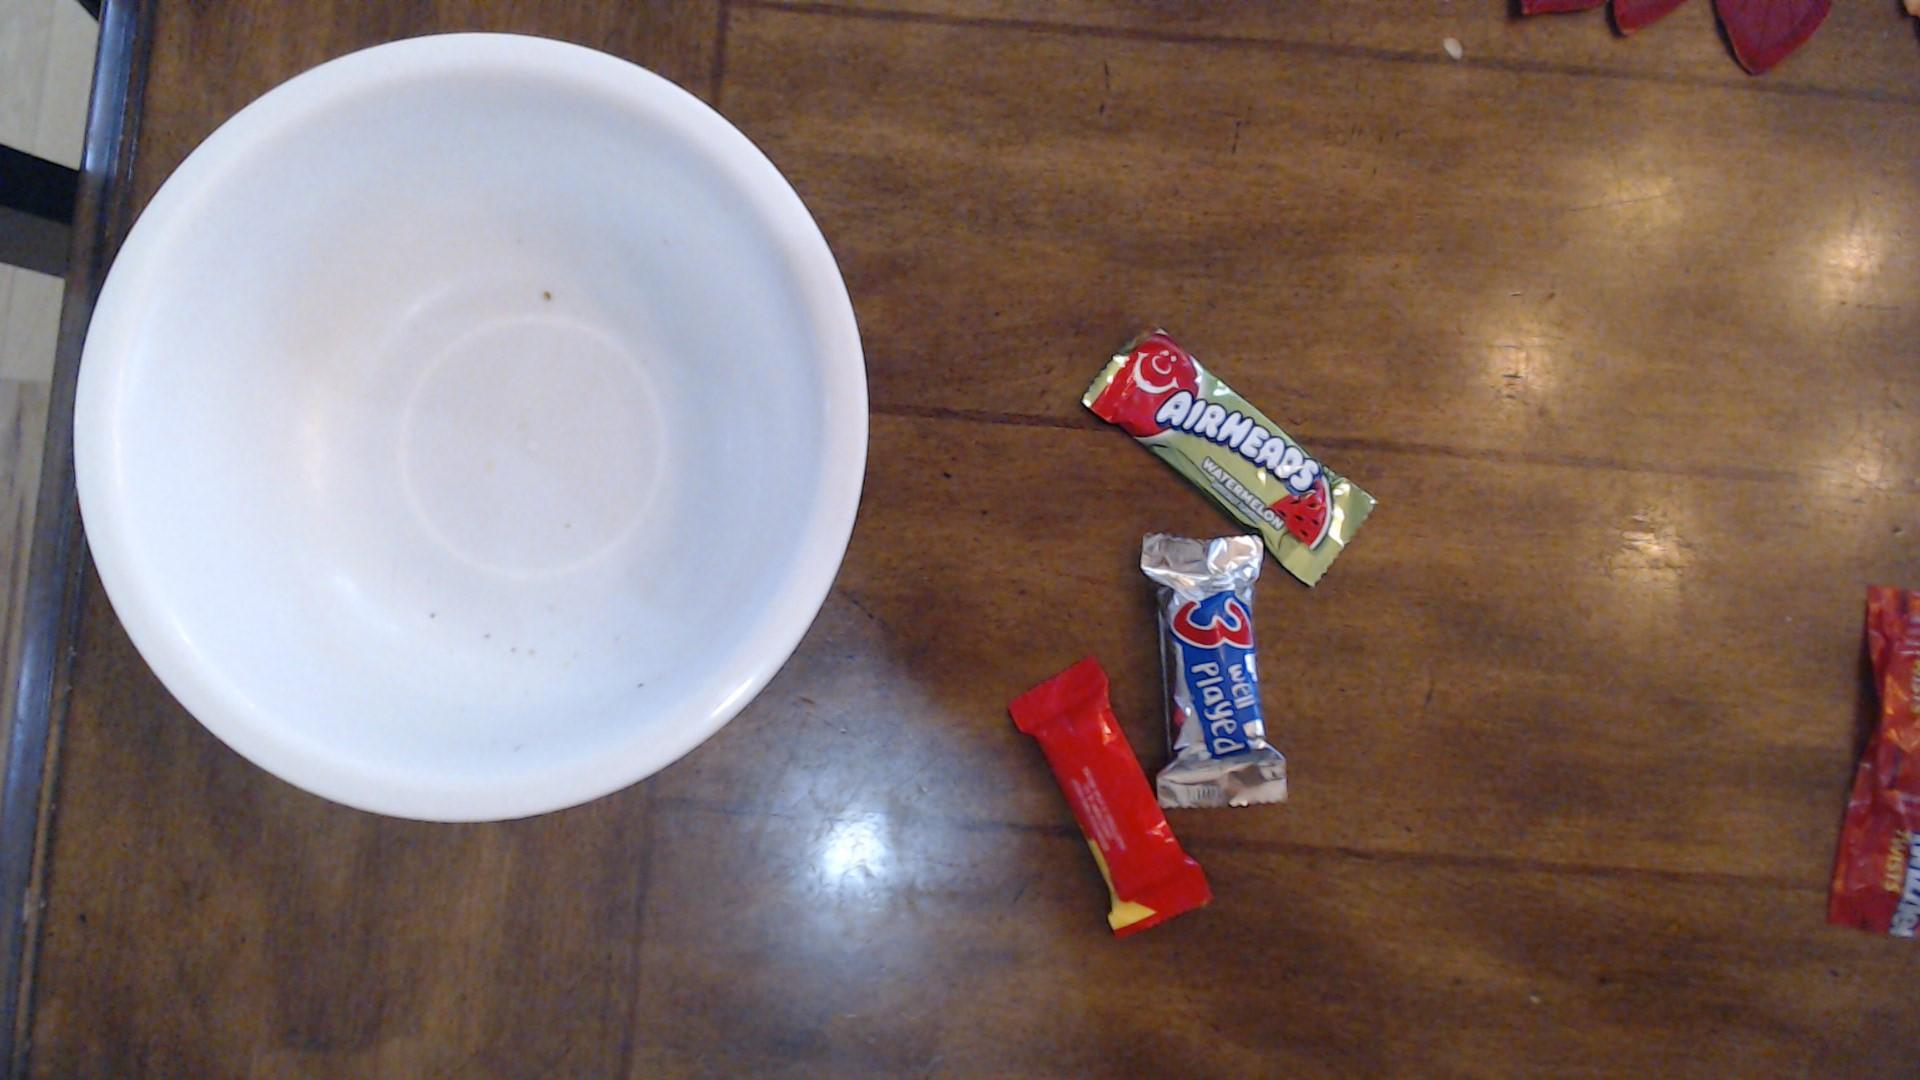airheads: (1097, 302, 1389, 588)
starburst: (1004, 650, 1218, 948)
three: (1126, 521, 1309, 822)
